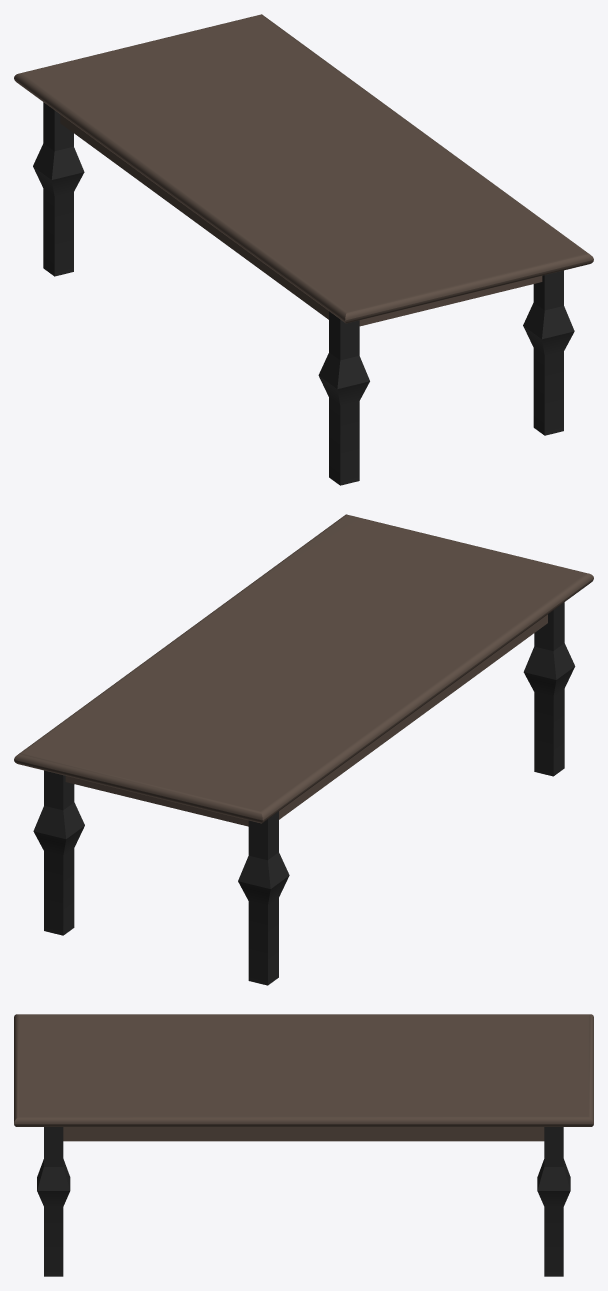
Rendered from GrandeTable_55.fbx.
3 renders of one model, top to bottom at view 1: azimuth 30°, elevation 25°; view 2: azimuth 150°, elevation 25°; view 3: azimuth 270°, elevation 25°, orthographic. The views are drawn at different scales.
Visible parts, largest first — view 1: pCube95, polySurface21, polySurface20, polySurface22; view 2: pCube95, polySurface22, polySurface23, polySurface21; view 3: pCube95, polySurface23, polySurface20.
Boxes of the visible parts, box(x1,y1,x2,y2) form: pCube95: box(14, 14, 593, 326); polySurface21: box(318, 311, 369, 485); polySurface20: box(523, 270, 574, 435); polySurface22: box(33, 102, 84, 276); pCube95: box(14, 514, 593, 826); polySurface22: box(238, 811, 289, 985); polySurface23: box(33, 770, 84, 935); polySurface21: box(523, 602, 575, 776); pCube95: box(14, 1014, 593, 1141); polySurface23: box(537, 1127, 570, 1276); polySurface20: box(37, 1127, 70, 1276).
Size of the model in its own units: 56.59 by 40.5 by 130.
